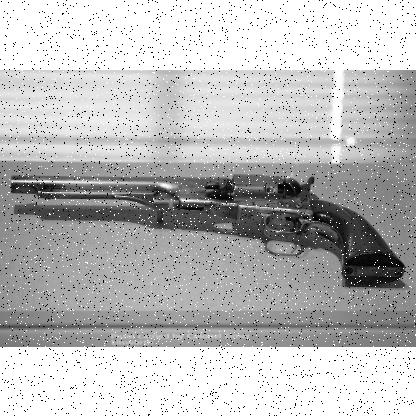gun: (11, 172, 405, 282)
